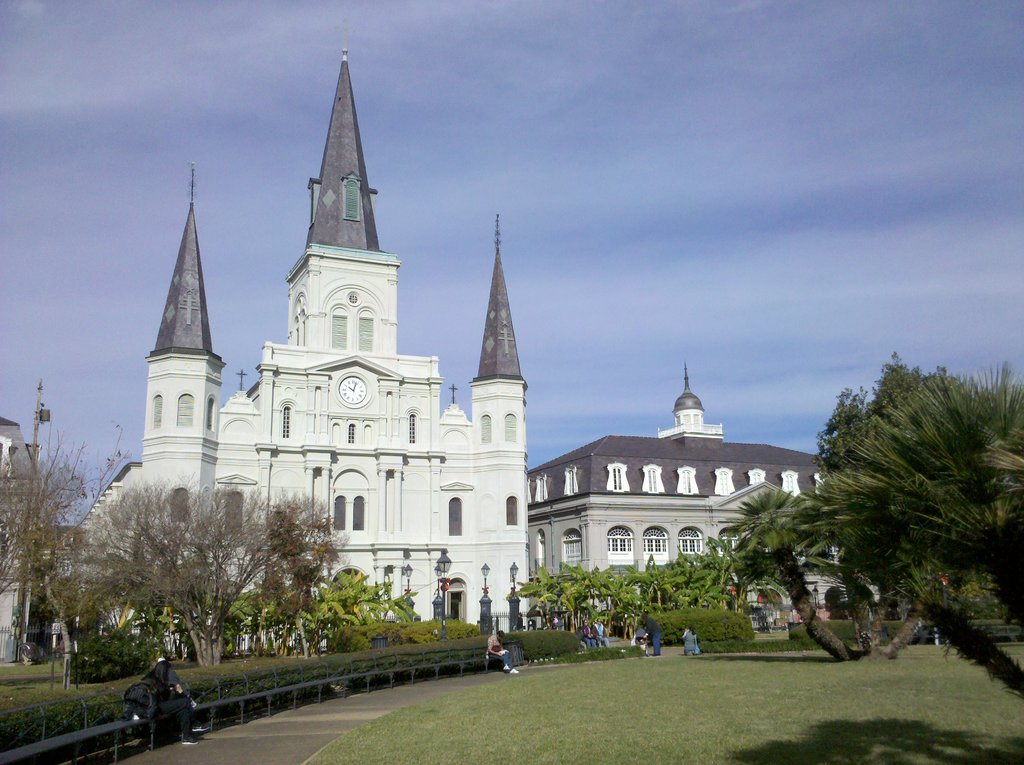Tree: (781, 370, 1023, 709), (40, 478, 371, 664), (813, 350, 959, 654), (0, 425, 135, 667), (719, 487, 840, 668), (513, 549, 748, 635)
